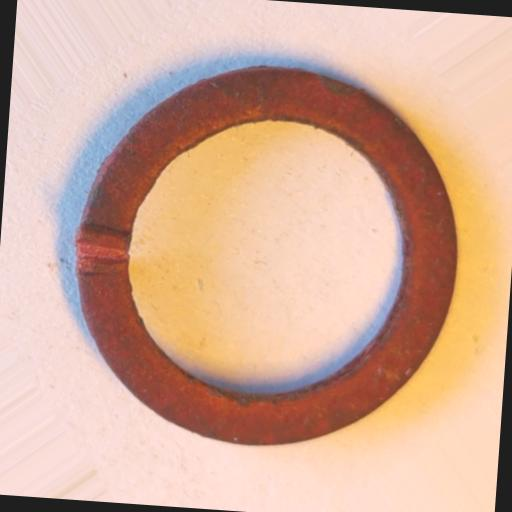defect: (71, 220, 132, 279)
